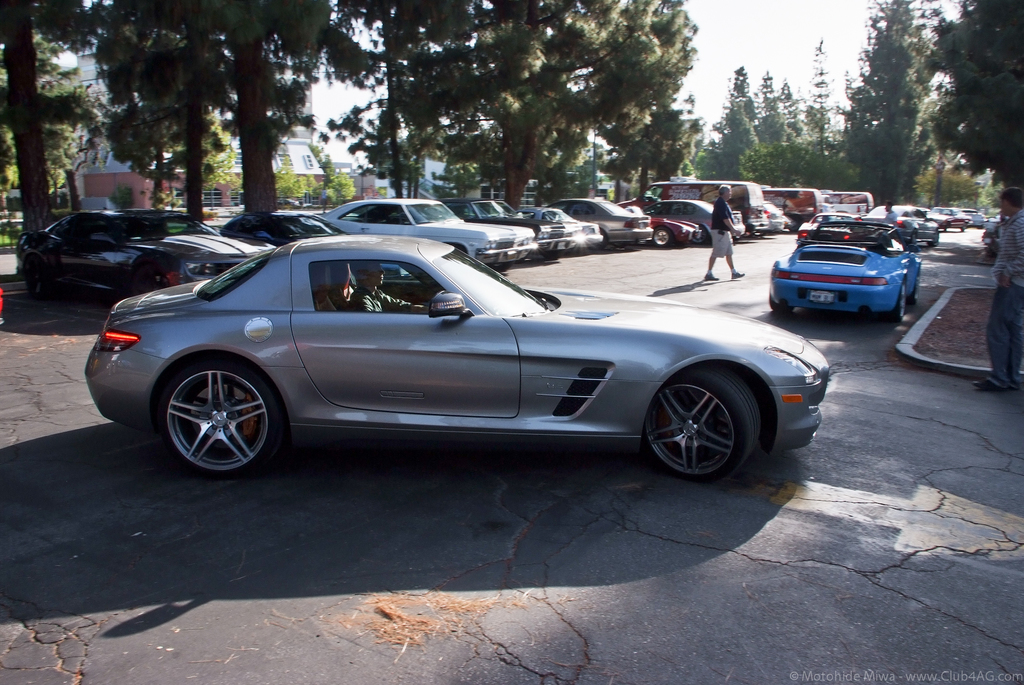mobil: (94, 235, 824, 493), (764, 235, 921, 325)
